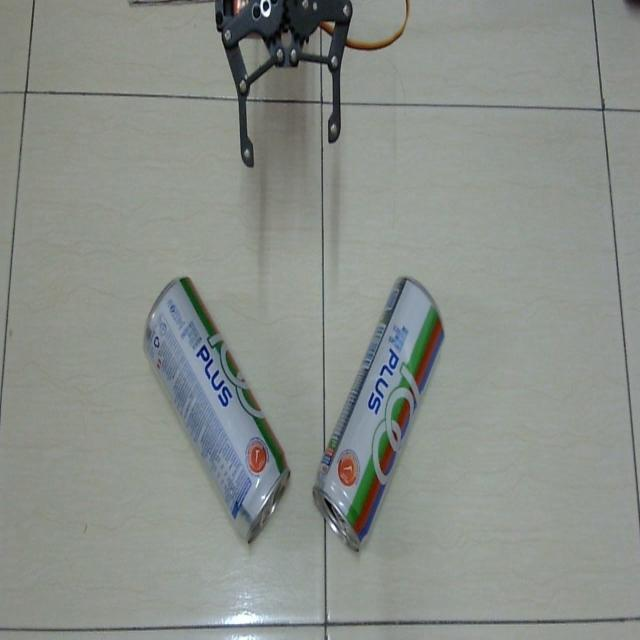Metal-laydown_45left-rotation: (139, 264, 295, 545)
Metal-laydown_45right-rotation: (311, 272, 447, 554)
